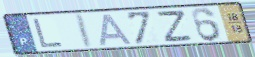6: (191, 6, 224, 43)
7: (126, 9, 153, 46)
A: (99, 13, 135, 47)
I: (76, 12, 96, 50)
L: (32, 17, 66, 49)
Z: (156, 9, 195, 43)
